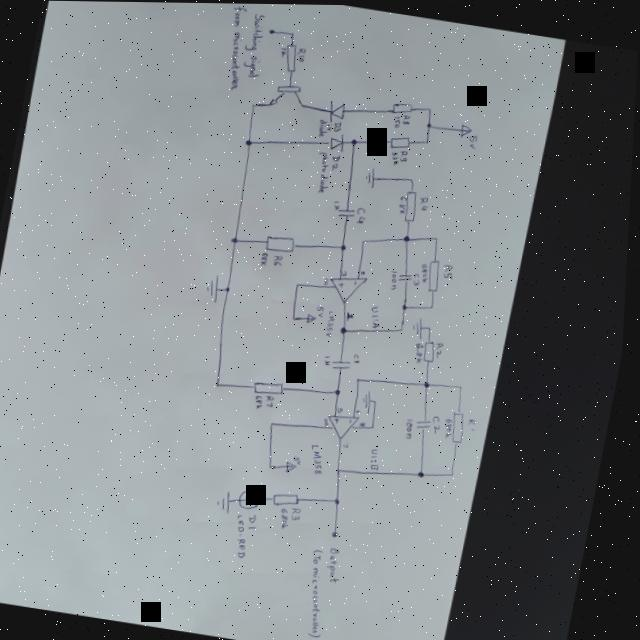capacitor: (331, 356, 357, 371), (338, 206, 358, 218), (419, 417, 436, 430), (400, 271, 415, 283)
diode: (326, 97, 348, 124), (241, 488, 265, 511), (326, 130, 348, 153)
ground: (207, 273, 224, 301), (361, 387, 378, 415), (220, 489, 238, 513), (412, 314, 428, 337), (365, 165, 380, 189)
junction: (420, 468, 430, 477), (232, 235, 242, 244), (337, 387, 346, 396), (404, 233, 412, 241), (339, 466, 347, 474), (425, 380, 434, 387), (351, 138, 359, 145), (460, 382, 468, 389), (227, 285, 234, 293), (342, 326, 349, 333), (339, 497, 346, 504), (453, 469, 460, 476), (246, 139, 252, 145), (273, 420, 279, 426), (431, 303, 437, 309), (219, 381, 226, 386), (405, 302, 410, 308), (297, 282, 303, 287), (252, 102, 257, 108), (425, 139, 431, 144), (343, 244, 348, 249), (294, 315, 299, 320), (272, 463, 277, 468), (435, 235, 440, 240), (428, 106, 433, 111), (412, 176, 417, 181), (402, 325, 407, 330), (376, 398, 381, 403), (430, 324, 435, 329), (428, 123, 432, 127), (360, 377, 364, 381), (291, 32, 294, 34), (375, 424, 377, 427), (364, 240, 366, 242)
resistor: (401, 188, 423, 223), (451, 408, 472, 444), (264, 233, 299, 253), (426, 257, 446, 292), (274, 489, 305, 509), (256, 377, 288, 396), (282, 42, 301, 72), (423, 339, 440, 363), (390, 132, 413, 149), (392, 99, 414, 115)
source: (459, 121, 474, 138), (288, 458, 302, 473), (309, 312, 319, 322)
terminal: (336, 530, 344, 537), (268, 28, 274, 34)
text: (302, 545, 343, 639), (216, 4, 254, 91), (238, 8, 272, 80), (232, 511, 257, 558), (312, 149, 336, 193), (328, 546, 351, 584), (310, 442, 332, 475), (368, 303, 386, 329), (326, 308, 340, 338), (371, 446, 386, 471), (413, 341, 429, 363), (282, 507, 297, 529), (406, 416, 420, 439), (389, 268, 403, 289), (433, 413, 447, 433), (446, 417, 459, 438), (397, 194, 410, 214), (330, 152, 343, 171), (420, 263, 432, 283), (444, 261, 458, 278), (418, 193, 431, 211), (317, 117, 329, 136), (436, 340, 448, 358), (357, 206, 369, 223), (252, 512, 264, 529), (296, 45, 307, 63), (294, 506, 307, 521), (267, 393, 280, 408), (256, 394, 269, 409), (468, 133, 479, 150), (391, 114, 403, 129), (273, 253, 286, 266), (469, 417, 482, 430), (412, 271, 423, 286), (390, 150, 401, 165), (333, 119, 344, 133), (261, 251, 271, 266), (401, 112, 413, 124), (325, 353, 336, 366), (333, 198, 344, 211), (348, 310, 358, 322), (400, 149, 410, 161), (324, 121, 334, 131), (296, 455, 307, 464), (355, 352, 364, 363), (279, 45, 287, 57), (319, 305, 327, 317), (326, 416, 334, 426), (338, 405, 349, 412), (362, 419, 371, 427), (325, 276, 332, 285), (342, 269, 350, 276), (358, 407, 366, 414), (362, 269, 369, 276), (354, 278, 361, 285), (340, 280, 347, 287), (346, 443, 353, 448), (351, 417, 358, 422), (338, 416, 343, 422)
transistor: (269, 79, 308, 111)
